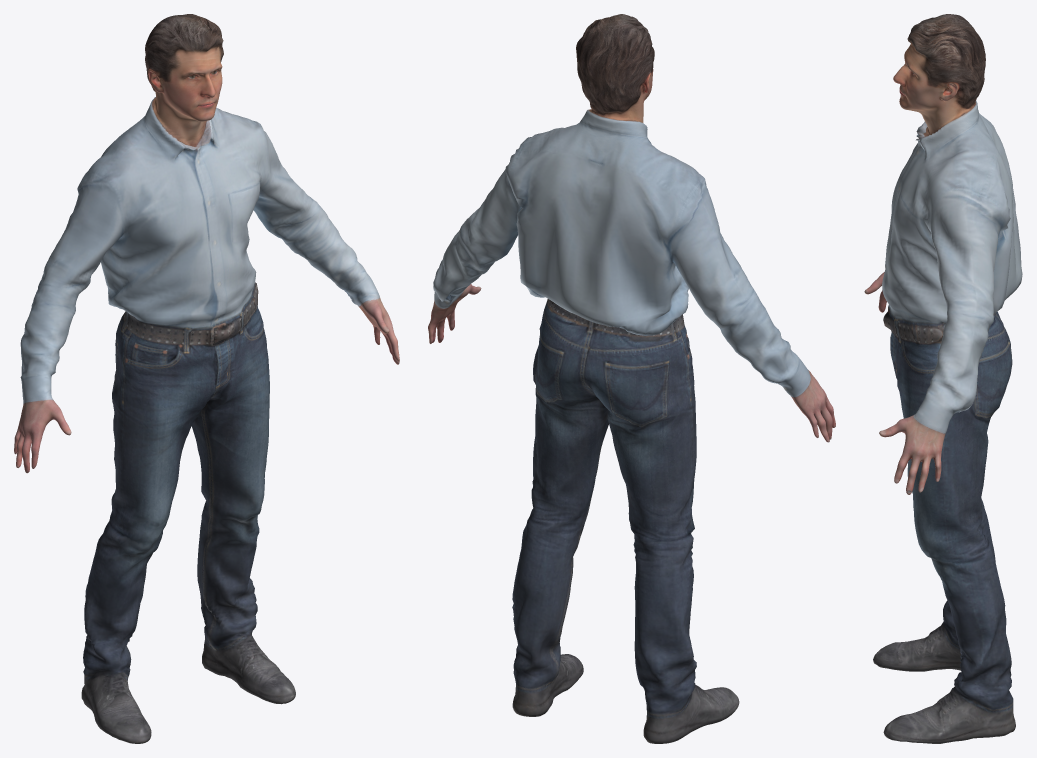
Rendered from human.glb.
3 views of the same model, side by side, from view 1: azimuth 30°, elevation 25°; view 2: azimuth 150°, elevation 25°; view 3: azimuth 270°, elevation 25° (orthographic).
Parts seen in each view (by area): view 1: Object_2; view 2: Object_2; view 3: Object_2.
Part boxes in pixels (box(x1,y1,x2,y2)): Object_2: box(14, 14, 399, 743); Object_2: box(428, 14, 835, 743); Object_2: box(864, 14, 1022, 743).
Bounding box in the file's own units: 1.14 × 1.92 × 0.4033.
1 material, 1 textured.
